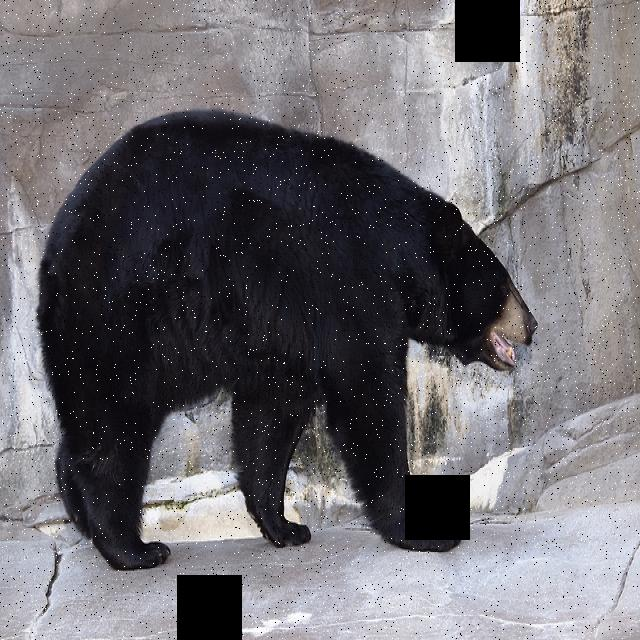Bear: (37, 106, 540, 571)
